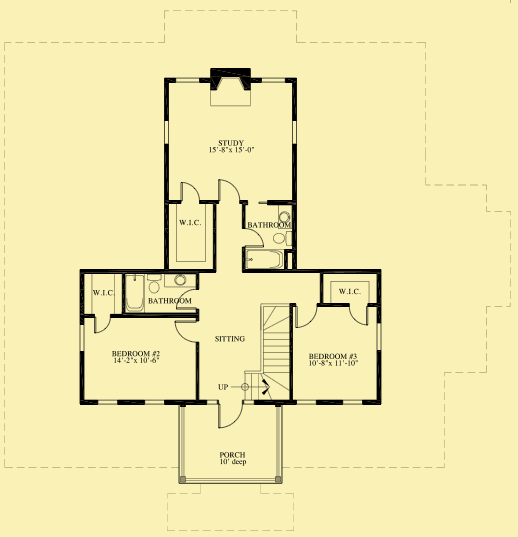door: (215, 399, 244, 428), (214, 178, 241, 205), (346, 303, 372, 328), (176, 179, 201, 204), (171, 318, 197, 342), (295, 302, 319, 328), (174, 289, 199, 312), (243, 228, 266, 248), (91, 316, 113, 336)
large_sink: (146, 271, 163, 293), (271, 231, 294, 247)
small_sink: (163, 270, 197, 290), (274, 202, 292, 231)
stairs: (240, 302, 291, 400)
tub: (125, 270, 148, 313), (246, 249, 285, 271)
window: (257, 74, 287, 87), (372, 321, 383, 354), (289, 118, 299, 147), (141, 397, 165, 409), (162, 119, 170, 145), (97, 399, 120, 408), (340, 399, 363, 406), (79, 322, 84, 353), (174, 78, 201, 82)
